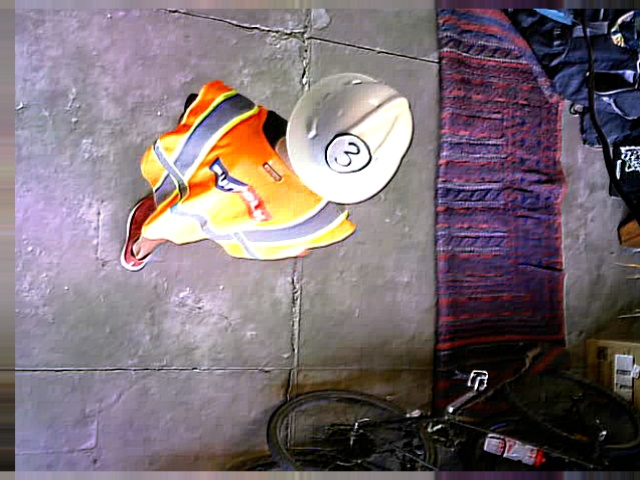three: (325, 133, 372, 174)
